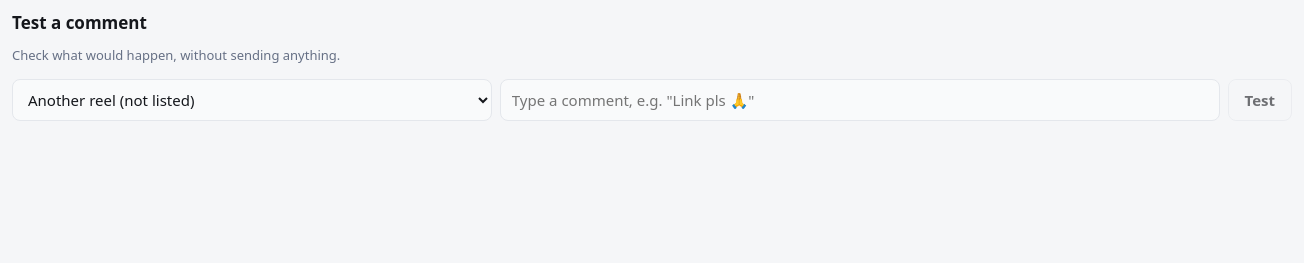
Test case: shows the DM a matching comment would get
Expected: the button "Test" is disabled, [1228, 79, 1292, 121]
Select "Reel · 10/1/2026 · Morning" in the dropdown named "Reel to test" at (252, 100), box [12, 79, 492, 121]
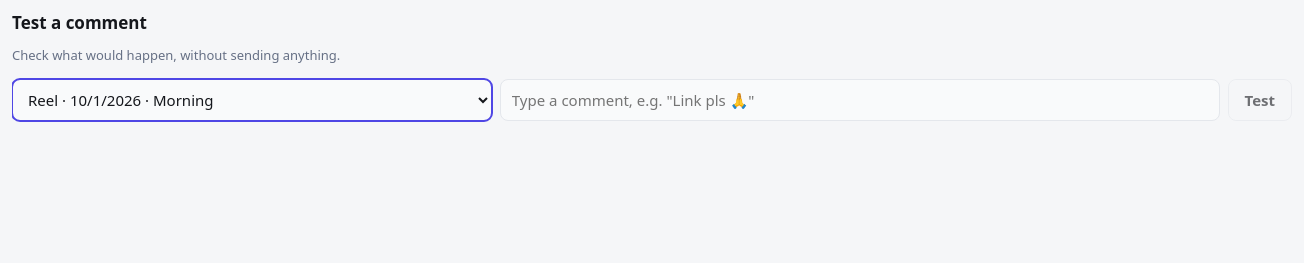
Type "link pls" into the field named "Comment text" at (860, 100), box [500, 79, 1220, 121]
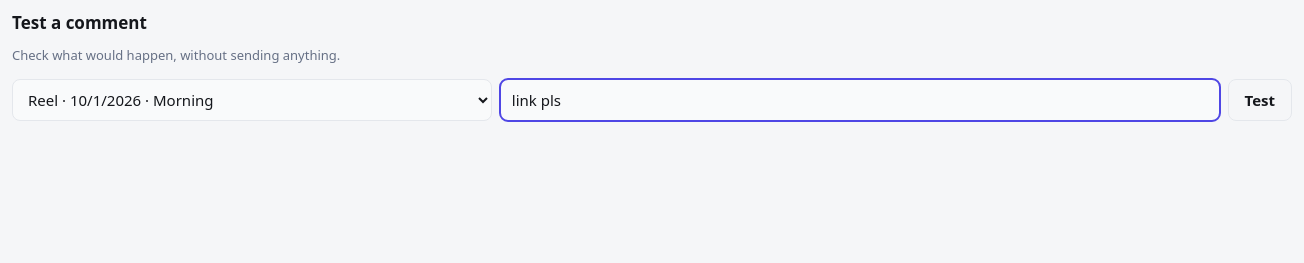
Click the button "Test" at (1260, 100), box [1228, 79, 1292, 121]
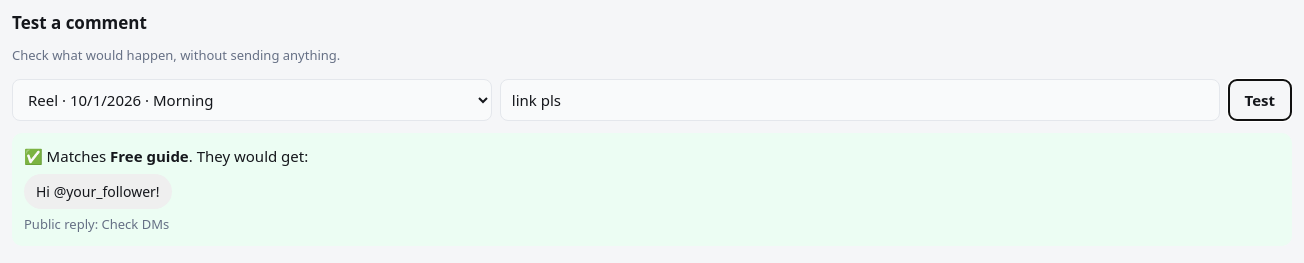
Expected: the message shows "Matches Free guide", [12, 133, 1292, 246]
Expected: the message shows "Hi @your_follower!", [36, 182, 160, 201]
Expected: the message shows "Public reply: Check DMs", [12, 133, 1292, 246]
